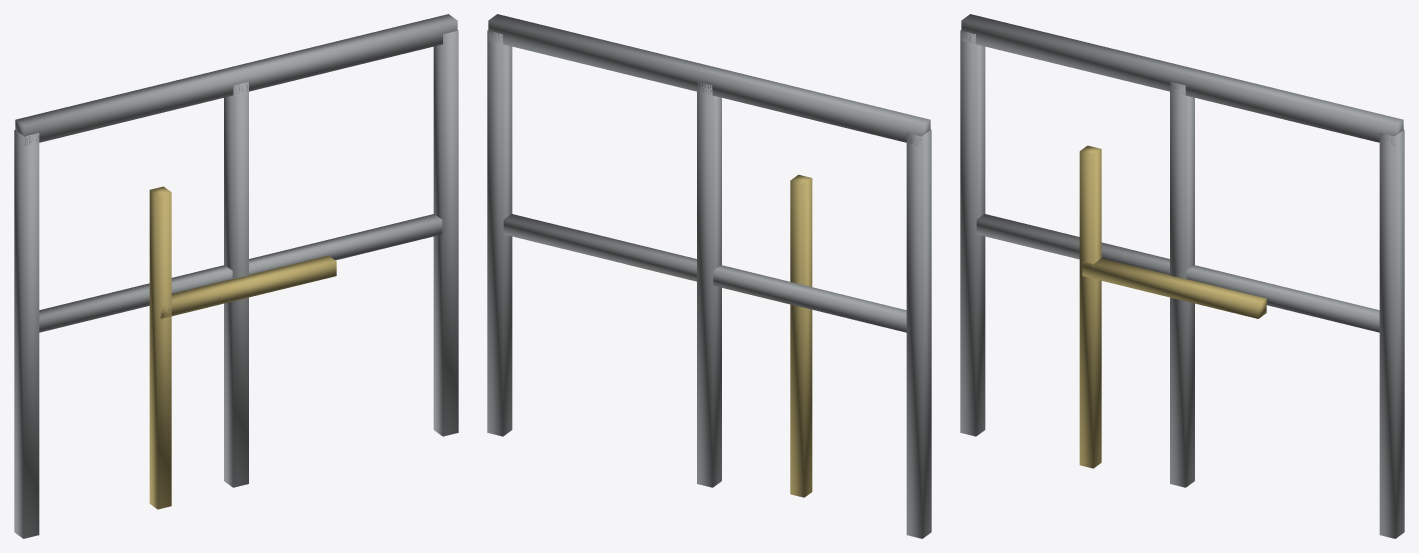
Rendered from residential_gate_l120_h110.glb.
The picture shows the model from 3 angles, left to right: view 1: azimuth 30°, elevation 25°; view 2: azimuth 150°, elevation 25°; view 3: azimuth 330°, elevation 25°; orthographic projection.
Parts seen in each view (by area): view 1: world; view 2: world; view 3: world.
Boxes of the visible parts, <box> form: world: <box>14,14,458,538</box>; world: <box>487,14,931,538</box>; world: <box>960,14,1404,538</box>.
Bounding box in the file's own units: 1.25 × 1.13 × 0.0825.
